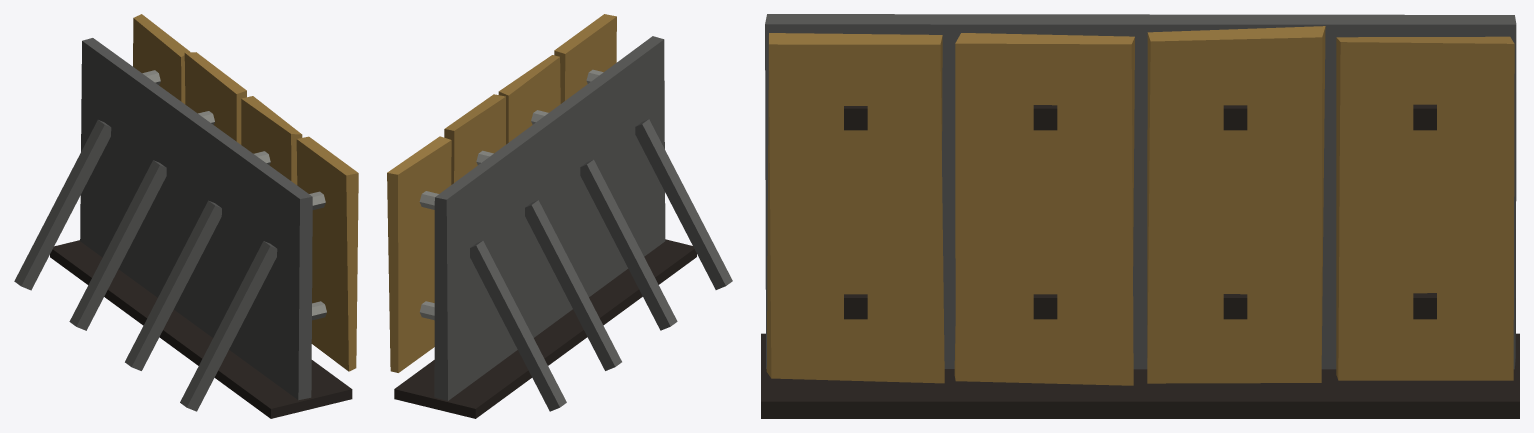
The model's file is arm_spaced.glb.
The picture shows the model from 3 angles, left to right: view 1: azimuth 30°, elevation 25°; view 2: azimuth 150°, elevation 25°; view 3: azimuth 270°, elevation 25°; orthographic projection. The views are drawn at different scales.
Parts seen in each view (by area): view 1: arm_spaced; view 2: arm_spaced; view 3: arm_spaced.
Boxes of the visible parts, x1=… form: arm_spaced: x1=14, y1=14, x2=358, y2=418; arm_spaced: x1=387, y1=14, x2=732, y2=418; arm_spaced: x1=761, y1=14, x2=1519, y2=418.
Size of the model in its own units: 0.6413 by 0.9113 by 1.6.
